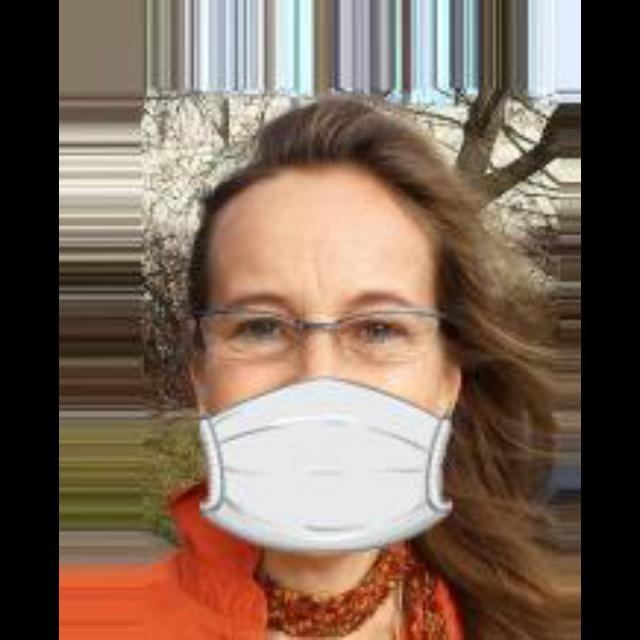suspicion: (160, 114, 518, 552)
